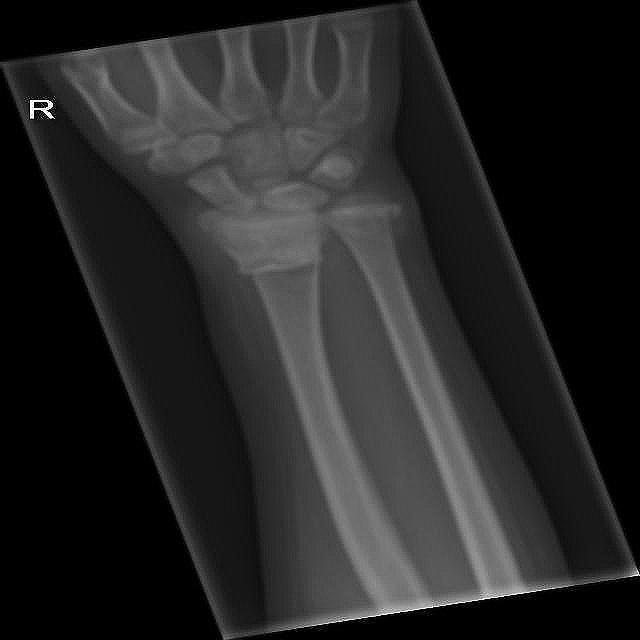bone: (231, 240, 327, 286), (317, 191, 403, 240)
